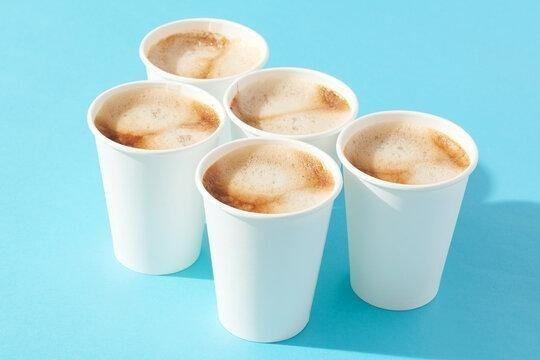cup-disposable: (194, 134, 343, 346), (335, 107, 481, 314), (86, 78, 225, 276)
